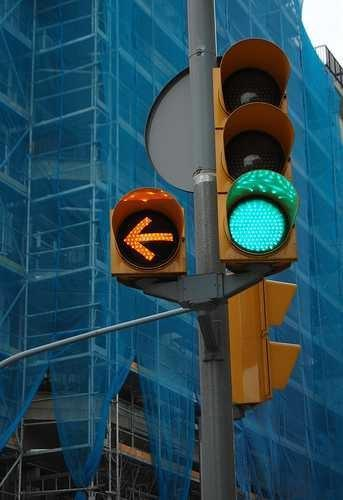2: (216, 43, 298, 258)
3: (220, 45, 292, 118), (218, 114, 290, 184)
7: (107, 193, 184, 271)
red traffic light: (220, 186, 294, 250)
